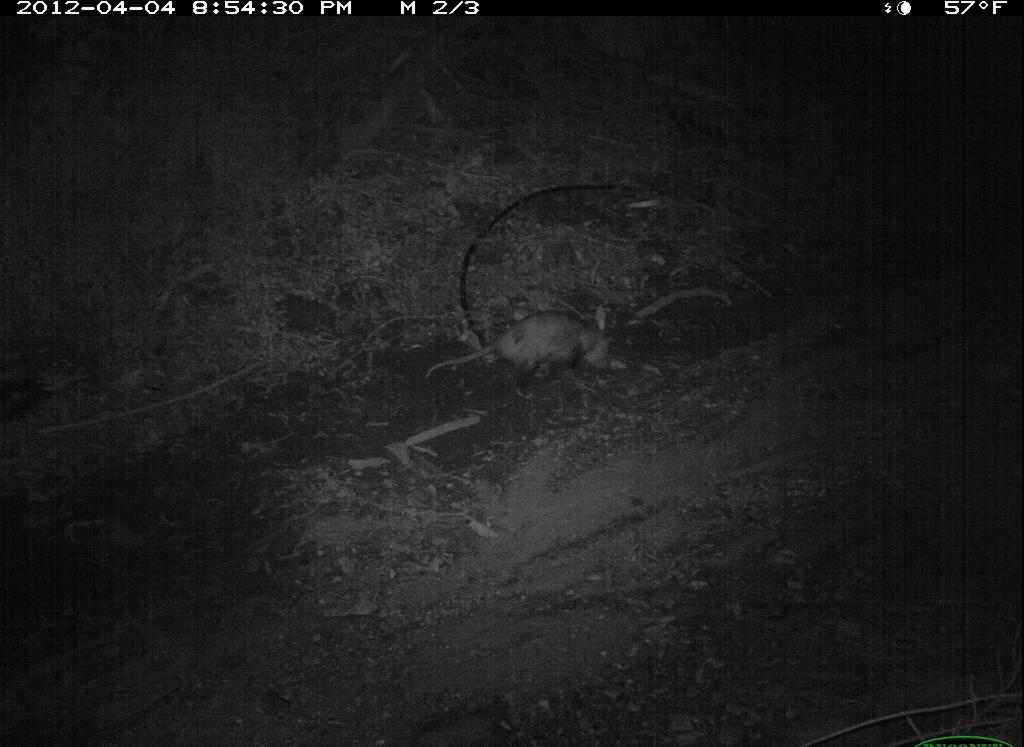opossum: (404, 296, 635, 405)
